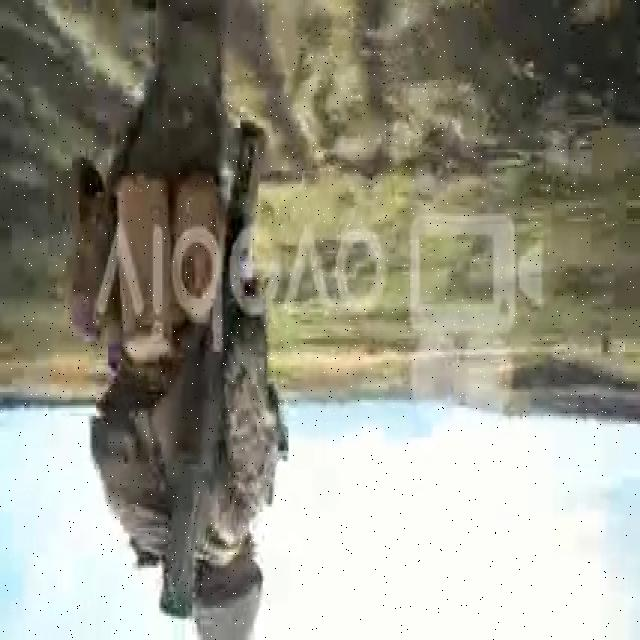bazooka: (158, 119, 272, 623)
